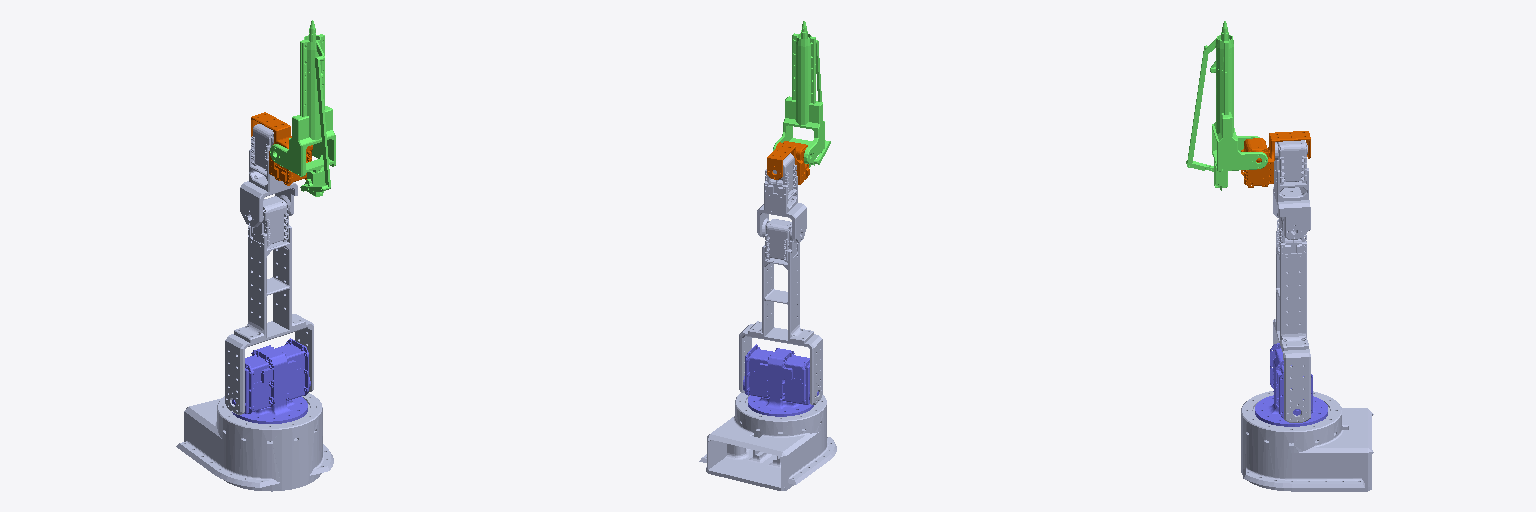
URDF robot description (simple_with_weights_v1):
<?xml version="1.0" encoding="utf-8"?>
<!-- This URDF was automatically created by SolidWorks to URDF Exporter! Originally created by [author] ([email redacted]) 
     Commit Version: 1.6.0-4-g7f85cfe  Build Version: 1.6.7995.38578
     For more information, please see http://wiki.ros.org/sw_urdf_exporter -->
<robot
  name="simple_with_weights_v1">
  <link
    name="FixedBase">
    <inertial>
      <origin
        xyz="6.91504582338056E-09 0.00866199894864743 0.0342031308697217"
        rpy="0 0 0" />
      <mass
        value="0.495743106976943" />
      <inertia
        ixx="0.00113436221911029"
        ixy="-1.43617638913961E-10"
        ixz="-8.73991869856839E-11"
        iyy="0.00110788818800462"
        iyz="3.73236938925135E-05"
        izz="0.00165468506904116" />
    </inertial>
    <visual>
      <origin
        xyz="0 0 0"
        rpy="0 0 0" />
      <geometry>
        <mesh
          filename="package://simple_with_weights_v1/meshes/FixedBase.STL" />
      </geometry>
      <material
        name="">
        <color
          rgba="0.792156862745098 0.819607843137255 0.933333333333333 1" />
      </material>
    </visual>
    <collision>
      <origin
        xyz="0 0 0"
        rpy="0 0 0" />
      <geometry>
        <mesh
          filename="package://simple_with_weights_v1/meshes/FixedBase.STL" />
      </geometry>
    </collision>
  </link>
  <link
    name="RotatingBaseLink">
    <inertial>
      <origin
        xyz="-8.9493E-09 5.9414E-09 0.05044"
        rpy="0 0 0" />
      <mass
        value="0.36361" />
      <inertia
        ixx="0.00030436"
        ixy="-1.8255E-05"
        ixz="-1.819E-11"
        iyy="0.00043841"
        iyz="-7.5176E-11"
        izz="0.00028621" />
    </inertial>
    <visual>
      <origin
        xyz="0 0 0"
        rpy="0 0 0" />
      <geometry>
        <mesh
          filename="package://simple_with_weights_v1/meshes/RotatingBaseLink.STL" />
      </geometry>
      <material
        name="">
        <color
          rgba="0.50196 0.50196 1 1" />
      </material>
    </visual>
    <collision>
      <origin
        xyz="0 0 0"
        rpy="0 0 0" />
      <geometry>
        <mesh
          filename="package://simple_with_weights_v1/meshes/RotatingBaseLink.STL" />
      </geometry>
    </collision>
  </link>
  <joint
    name="RotatingBaseJoint"
    type="revolute">
    <origin
      xyz="0 0 0.05"
      rpy="0 0 0" />
    <parent
      link="FixedBase" />
    <child
      link="RotatingBaseLink" />
    <axis
      xyz="0 0 -1" />
    <limit
      lower="0"
      upper="0"
      effort="0.15"
      velocity="0" />
  </joint>
  <link
    name="ShoulderLink">
    <inertial>
      <origin
        xyz="-0.000343543619798614 -4.7469526831247E-05 0.132307785393487"
        rpy="0 0 0" />
      <mass
        value="0.138435482734878" />
      <inertia
        ixx="0.000737839709510249"
        ixy="-1.25510542242943E-05"
        ixz="3.58301568666162E-06"
        iyy="0.000830082607872427"
        iyz="4.66332676081564E-07"
        izz="0.000116269160165116" />
    </inertial>
    <visual>
      <origin
        xyz="0 0 0"
        rpy="0 0 0" />
      <geometry>
        <mesh
          filename="package://simple_with_weights_v1/meshes/ShoulderLink.STL" />
      </geometry>
      <material
        name="">
        <color
          rgba="0.792156862745098 0.819607843137255 0.933333333333333 1" />
      </material>
    </visual>
    <collision>
      <origin
        xyz="0 0 0"
        rpy="0 0 0" />
      <geometry>
        <mesh
          filename="package://simple_with_weights_v1/meshes/ShoulderLink.STL" />
      </geometry>
    </collision>
  </link>
  <joint
    name="ShoulderJoint"
    type="revolute">
    <origin
      xyz="0 0 0.049"
      rpy="0 0 0" />
    <parent
      link="RotatingBaseLink" />
    <child
      link="ShoulderLink" />
    <axis
      xyz="-0.99118 -0.13256 0" />
    <limit
      lower="0"
      upper="0"
      effort="8"
      velocity="0" />
  </joint>
  <link
    name="ElbowLink">
    <inertial>
      <origin
        xyz="0.000455121506289293 -0.000309375510221222 0.0558340173895781"
        rpy="0 0 0" />
      <mass
        value="0.0915266016282274" />
      <inertia
        ixx="9.465338189086E-05"
        ixy="-1.12211417086021E-06"
        ixz="-2.53605488595402E-06"
        iyy="0.000100554543526888"
        iyz="1.63497313380644E-06"
        izz="2.82058344282571E-05" />
    </inertial>
    <visual>
      <origin
        xyz="0 0 0"
        rpy="0 0 0" />
      <geometry>
        <mesh
          filename="package://simple_with_weights_v1/meshes/ElbowLink.STL" />
      </geometry>
      <material
        name="">
        <color
          rgba="0.792156862745098 0.819607843137255 0.933333333333333 1" />
      </material>
    </visual>
    <collision>
      <origin
        xyz="0 0 0"
        rpy="0 0 0" />
      <geometry>
        <mesh
          filename="package://simple_with_weights_v1/meshes/ElbowLink.STL" />
      </geometry>
    </collision>
  </link>
  <joint
    name="ElbowJoint"
    type="revolute">
    <origin
      xyz="-0.0010308 -0.00013784 0.2247"
      rpy="0 0 0" />
    <parent
      link="ShoulderLink" />
    <child
      link="ElbowLink" />
    <axis
      xyz="-0.99118 -0.13256 0" />
    <limit
      lower="0"
      upper="0"
      effort="0.15"
      velocity="0" />
  </joint>
  <link
    name="WristLink">
    <inertial>
      <origin
        xyz="0.00536061983285139 -0.0345356044890844 -0.010184447714255"
        rpy="0 0 0" />
      <mass
        value="0.0698840923355779" />
      <inertia
        ixx="3.32999319427777E-05"
        ixy="1.65749124248392E-06"
        ixz="7.76780097458082E-07"
        iyy="2.341769946856E-05"
        iyz="-6.14931693430968E-06"
        izz="2.46672290760946E-05" />
    </inertial>
    <visual>
      <origin
        xyz="0 0 0"
        rpy="0 0 0" />
      <geometry>
        <mesh
          filename="package://simple_with_weights_v1/meshes/WristLink.STL" />
      </geometry>
      <material
        name="">
        <color
          rgba="0.909803921568627 0.443137254901961 0.0313725490196078 1" />
      </material>
    </visual>
    <collision>
      <origin
        xyz="0 0 0"
        rpy="0 0 0" />
      <geometry>
        <mesh
          filename="package://simple_with_weights_v1/meshes/WristLink.STL" />
      </geometry>
    </collision>
  </link>
  <joint
    name="WristJoint"
    type="revolute">
    <origin
      xyz="0.0011343 -0.00093791 0.0935"
      rpy="0 0 0" />
    <parent
      link="ElbowLink" />
    <child
      link="WristLink" />
    <axis
      xyz="-0.13256 0.99118 0" />
    <limit
      lower="0"
      upper="0"
      effort="0.15"
      velocity="0" />
  </joint>
  <link
    name="PenLink">
    <inertial>
      <origin
        xyz="0.00284587102953182 -0.0374662815466427 0.0488069325568041"
        rpy="0 0 0" />
      <mass
        value="0.0715944650363118" />
      <inertia
        ixx="0.000214256796048994"
        ixy="-8.30996369630869E-07"
        ixz="-2.95408685366722E-06"
        iyy="0.00021657664354136"
        iyz="2.89350861509811E-06"
        izz="2.48359319114664E-05" />
    </inertial>
    <visual>
      <origin
        xyz="0 0 0"
        rpy="0 0 0" />
      <geometry>
        <mesh
          filename="package://simple_with_weights_v1/meshes/PenLink.STL" />
      </geometry>
      <material
        name="">
        <color
          rgba="0.501960784313725 1 0.501960784313725 1" />
      </material>
    </visual>
    <collision>
      <origin
        xyz="0 0 0"
        rpy="0 0 0" />
      <geometry>
        <mesh
          filename="package://simple_with_weights_v1/meshes/PenLink.STL" />
      </geometry>
    </collision>
  </link>
  <joint
    name="PenJoint"
    type="revolute">
    <origin
      xyz="0.006426 -0.040506 0"
      rpy="0 0 0" />
    <parent
      link="WristLink" />
    <child
      link="PenLink" />
    <axis
      xyz="0.99118 0.13256 0" />
    <limit
      lower="0"
      upper="0"
      effort="0.15"
      velocity="0" />
  </joint>
  <link
    name="PenTipLink">
    <inertial>
      <origin
        xyz="-1.2670564847328E-08 0.00951562294778097 1.48641781105852E-08"
        rpy="0 0 0" />
      <mass
        value="0.000495060666119079" />
      <inertia
        ixx="7.88837064331477E-09"
        ixy="2.50047196536482E-14"
        ixz="2.98534809413879E-14"
        iyy="2.46003259207317E-09"
        iyz="-2.9322290778111E-14"
        izz="7.88830357653576E-09" />
    </inertial>
    <visual>
      <origin
        xyz="0 0 0"
        rpy="0 0 0" />
      <geometry>
        <mesh
          filename="package://simple_with_weights_v1/meshes/PenTipLink.STL" />
      </geometry>
      <material
        name="">
        <color
          rgba="0.501960784313725 1 0.501960784313725 1" />
      </material>
    </visual>
    <collision>
      <origin
        xyz="0 0 0"
        rpy="0 0 0" />
      <geometry>
        <mesh
          filename="package://simple_with_weights_v1/meshes/PenTipLink.STL" />
      </geometry>
    </collision>
  </link>
  <joint
    name="PenTipJoint"
    type="continuous">
    <origin
      xyz="0.0039995 -0.037299 0.17403"
      rpy="-1.5708 0 -0.5042" />
    <parent
      link="PenLink" />
    <child
      link="PenTipLink" />
    <axis
      xyz="-0.70084 0.63047 0.33365" />
  </joint>
</robot>

--- Render facts (derived) ---
Views: 3 orthographic renders of the robot side by side, from view 1: azimuth 30°, elevation 25°; view 2: azimuth 150°, elevation 25°; view 3: azimuth 270°, elevation 25°.
Model simple_with_weights_v1 with 7 links and 6 joints (5 revolute, 1 continuous), rooted at FixedBase, posed all joints at 0.
Visible links, largest first — view 1: FixedBase, ShoulderLink, PenLink, RotatingBaseLink, ElbowLink, WristLink; view 2: FixedBase, ShoulderLink, RotatingBaseLink, PenLink, ElbowLink, WristLink; view 3: FixedBase, ShoulderLink, PenLink, ElbowLink, RotatingBaseLink, WristLink.
Boxes of the visible links, <box> form: FixedBase: <box>176,393,333,491</box>; ShoulderLink: <box>225,196,313,414</box>; PenLink: <box>270,33,335,196</box>; RotatingBaseLink: <box>232,338,310,423</box>; ElbowLink: <box>240,124,297,227</box>; WristLink: <box>251,112,312,185</box>; FixedBase: <box>699,393,836,490</box>; ShoulderLink: <box>739,219,822,404</box>; RotatingBaseLink: <box>743,344,818,416</box>; PenLink: <box>773,30,830,167</box>; ElbowLink: <box>757,153,806,243</box>; WristLink: <box>767,141,809,184</box>; FixedBase: <box>1241,391,1373,491</box>; ShoulderLink: <box>1273,217,1310,422</box>; PenLink: <box>1186,32,1267,190</box>; ElbowLink: <box>1273,140,1310,239</box>; RotatingBaseLink: <box>1255,343,1327,426</box>; WristLink: <box>1241,131,1310,187</box>.
Size in the robot's own frame: 0.146 by 0.2225 by 0.5912 metres.
Meshes: 7 distinct files referenced, 7 mesh visuals loaded (7 binary STL).